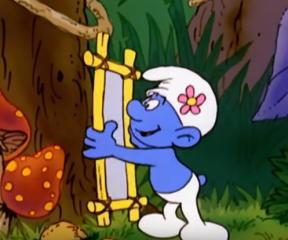smurf: (82, 65, 233, 239)
